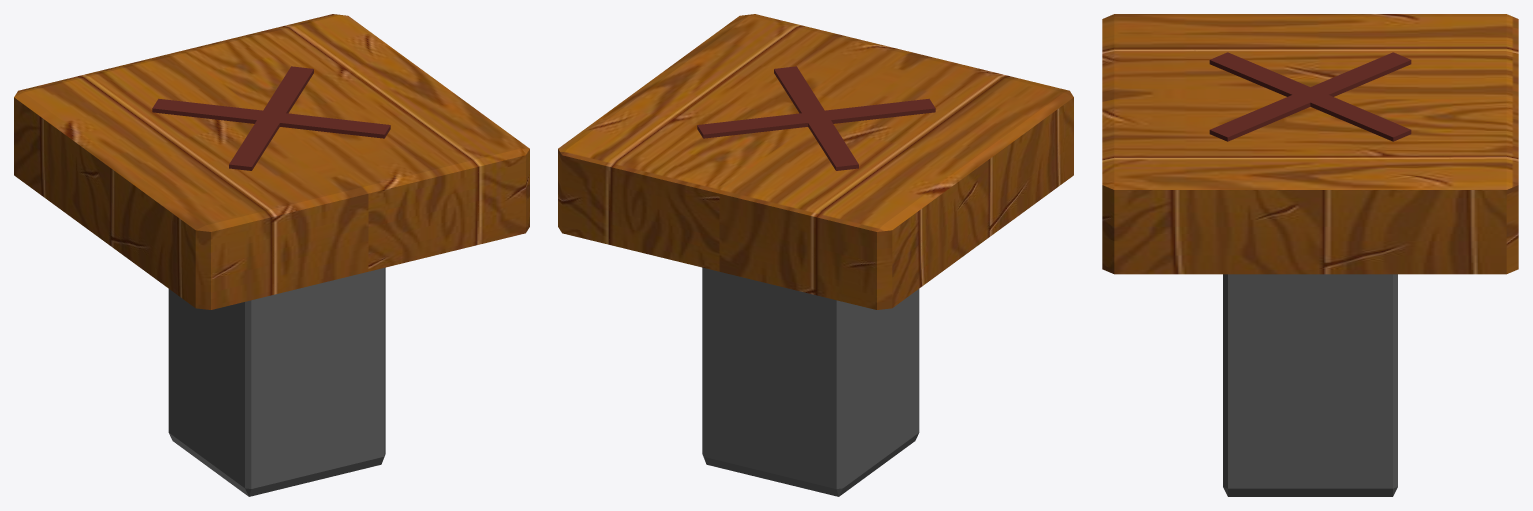
The model's file is finishedTable.fbx.
3 renders of one model, left to right at view 1: azimuth 30°, elevation 25°; view 2: azimuth 150°, elevation 25°; view 3: azimuth 270°, elevation 25°, orthographic. The views are drawn at different scales.
Visible parts, largest first — view 1: pCube18, pCube19, pCube21, pCube20; view 2: pCube18, pCube19, pCube20, pCube21; view 3: pCube18, pCube19, pCube20, pCube21.
Part boxes in pixels (x1,y1,x2,y2): pCube18: [14, 14, 529, 309]; pCube19: [168, 267, 385, 496]; pCube21: [152, 98, 390, 138]; pCube20: [229, 66, 313, 170]; pCube18: [558, 14, 1073, 309]; pCube19: [702, 267, 919, 496]; pCube20: [697, 98, 935, 138]; pCube21: [774, 66, 858, 170]; pCube18: [1102, 14, 1518, 274]; pCube19: [1223, 274, 1397, 496]; pCube20: [1209, 52, 1411, 141]; pCube21: [1209, 52, 1411, 141].
Bounding box in the file's own units: 3.33 × 3.21 × 3.33.
3 materials, 1 textured.
